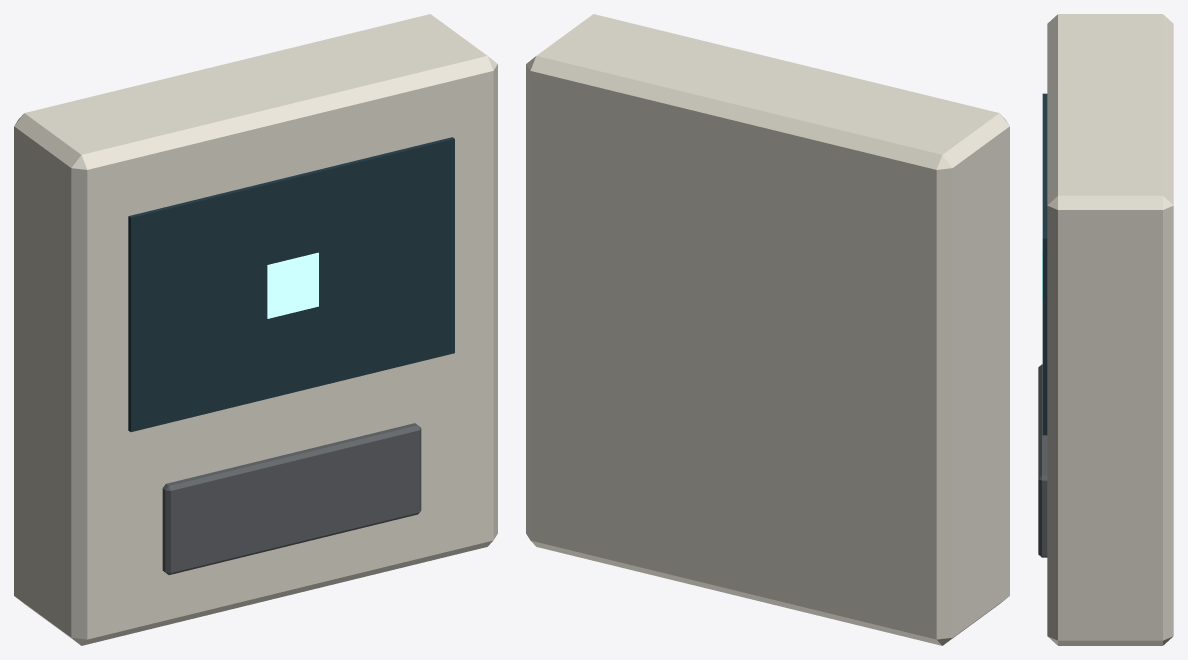
Rendered from wall_terminal.glb.
3 renders of one model, left to right at view 1: azimuth 30°, elevation 25°; view 2: azimuth 150°, elevation 25°; view 3: azimuth 270°, elevation 25°, orthographic. The views are drawn at different scales.
Visible parts, largest first — view 1: wall_terminal; view 2: wall_terminal; view 3: wall_terminal.
Boxes of the visible parts, x1,y1,x2,y2 form: wall_terminal: (14,14,497,645); wall_terminal: (526,14,1009,645); wall_terminal: (1038,14,1173,645).
Size of the model in its own units: 0.5 by 0.55 by 0.15.
